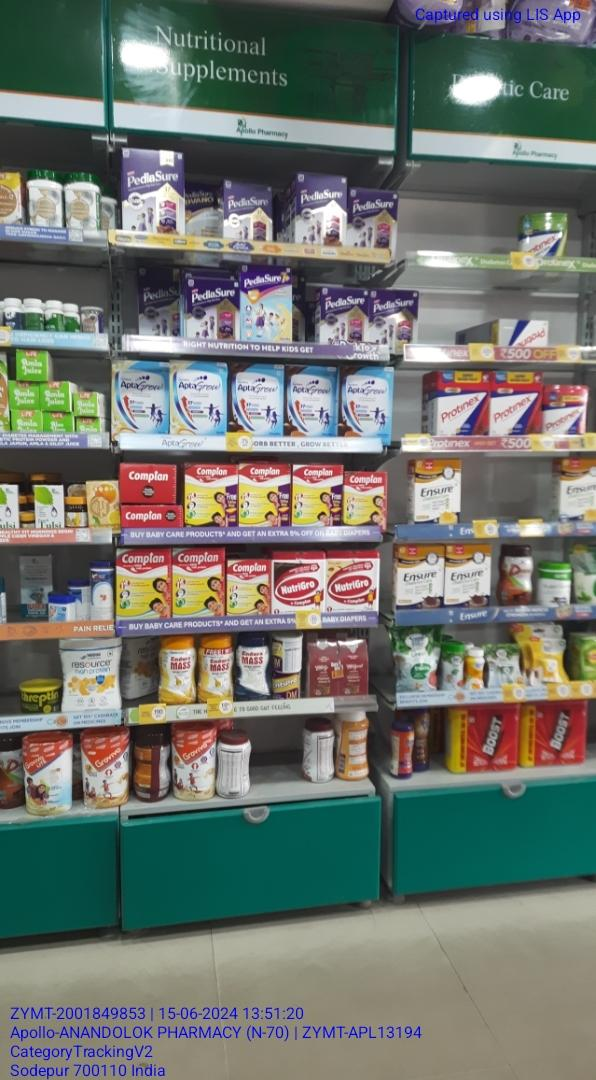BOURN_VITA_200_G_JAR: (391, 722, 414, 780)
COMPLAN_CHOCOLATE_200_GMS_PACK: (345, 473, 387, 526)
COMPLAN_CHOCOLATE_500_GMS_PACK: (185, 464, 237, 526)
COMPLAN_CREAMY_CLASSIC_500_G_PACK: (116, 548, 170, 618), (173, 548, 225, 617), (292, 463, 342, 524)
COMPLAN_KESAR_BADAM_200_GMS_PACK: (227, 559, 270, 614)
COMPLAN_KESAR_BADAM_500_GMS_PACK: (239, 463, 290, 528)
PEDIASURE_CHOCOLATE_500_G_PACK: (122, 147, 185, 233), (296, 172, 347, 246)
